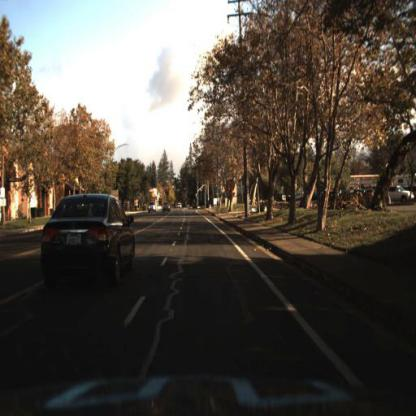car: (39, 190, 138, 292), (388, 187, 414, 202), (162, 200, 171, 214), (148, 202, 156, 212), (192, 202, 198, 209), (177, 203, 182, 208)
